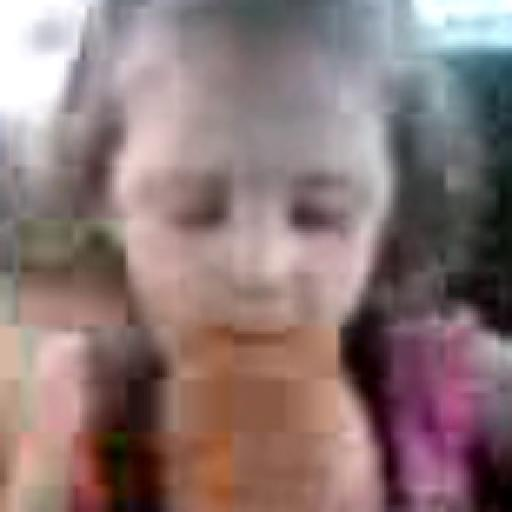Autism: (97, 25, 431, 398)
